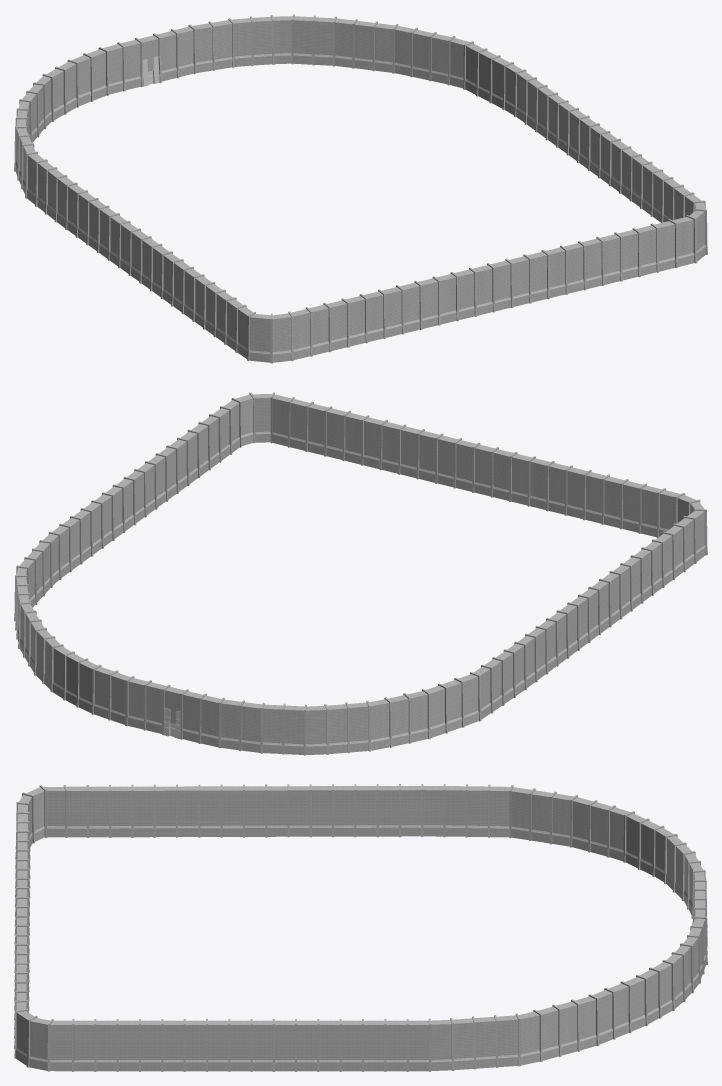
Rendered from wall-loop.fbx.
3 renders of one model, top to bottom at view 1: azimuth 30°, elevation 25°; view 2: azimuth 150°, elevation 25°; view 3: azimuth 270°, elevation 25°, orthographic. The views are drawn at different scales.
Parts seen in each view (by area): view 1: Cube, Cube.001, Cube.002, Cube.003; view 2: Cube, Cube.003, Cube.002, Cube.001; view 3: Cube.
Boxes of the visible parts, left/top/right/bottom form: Cube: left=14, top=14, right=707, bottom=363; Cube.001: left=139, top=33, right=161, bottom=86; Cube.002: left=157, top=29, right=179, bottom=81; Cube.003: left=121, top=37, right=143, bottom=90; Cube: left=14, top=392, right=707, bottom=755; Cube.003: left=180, top=689, right=202, bottom=742; Cube.002: left=143, top=680, right=165, bottom=733; Cube.001: left=162, top=684, right=184, bottom=738; Cube: left=14, top=784, right=707, bottom=1071.
Size of the model in its own units: 56327 by 5161 by 68490.
